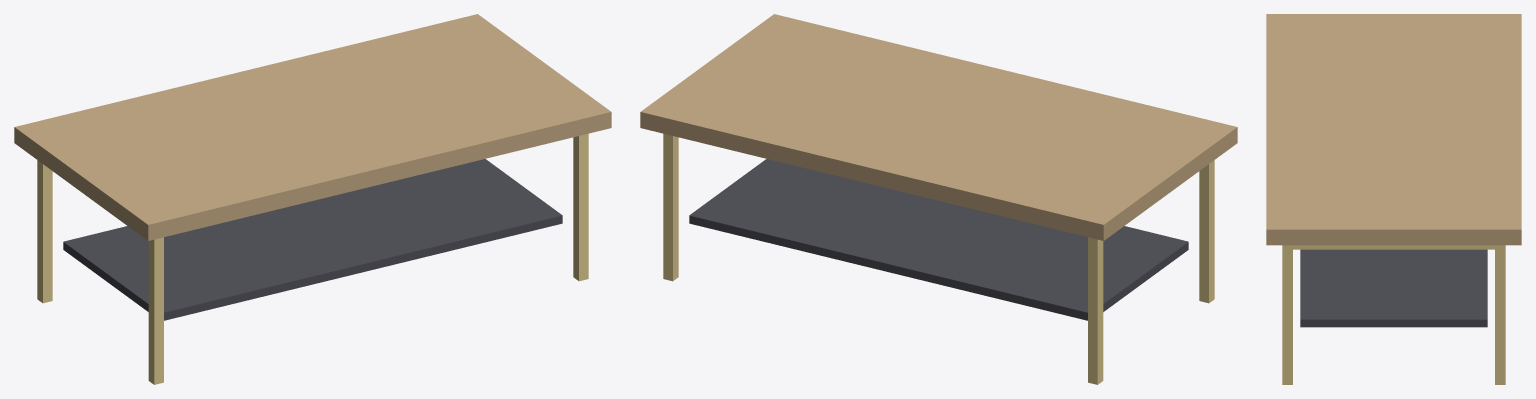
File: bb_set_coffeetable.fbx
3 renders of one model, left to right at view 1: azimuth 30°, elevation 25°; view 2: azimuth 150°, elevation 25°; view 3: azimuth 270°, elevation 25°, orthographic. The views are drawn at different scales.
Visible parts, largest first — view 1: bb_set_coffeetable; view 2: bb_set_coffeetable; view 3: bb_set_coffeetable.
Part boxes in pixels (x1,y1,x2,y2): bb_set_coffeetable: (14, 14, 611, 384); bb_set_coffeetable: (640, 14, 1237, 384); bb_set_coffeetable: (1266, 14, 1521, 384).
Bounding box in the file's own units: 1.2 × 0.42 × 0.6.
